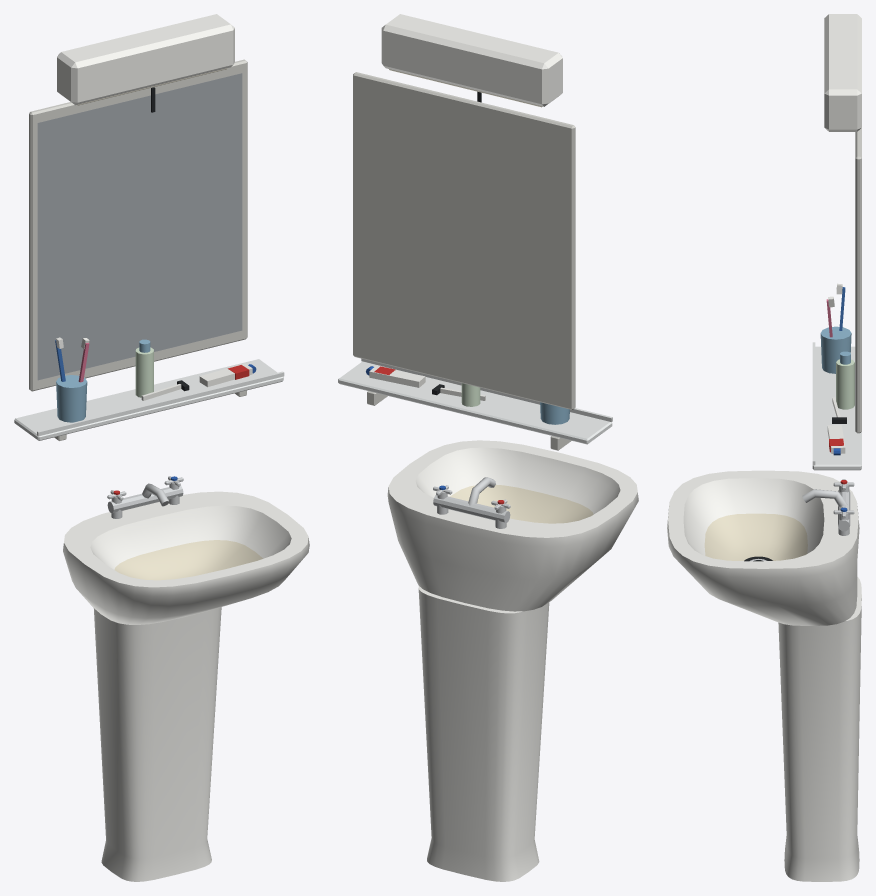
File: bath_sink.glb
The picture shows the model from 3 angles, left to right: view 1: azimuth 30°, elevation 25°; view 2: azimuth 150°, elevation 25°; view 3: azimuth 270°, elevation 25°; orthographic projection. The views are drawn at different scales.
Parts seen in each view (by area): view 1: bath_sink, mirror; view 2: bath_sink; view 3: bath_sink.
Part boxes in pixels (x1,y1,x2,y2): bath_sink: (14,14,309,881); mirror: (37,73,242,380); bath_sink: (338,14,638,881); bath_sink: (667,14,861,881).
Bounding box in the file's own units: 0.6 × 1.9 × 0.415.
